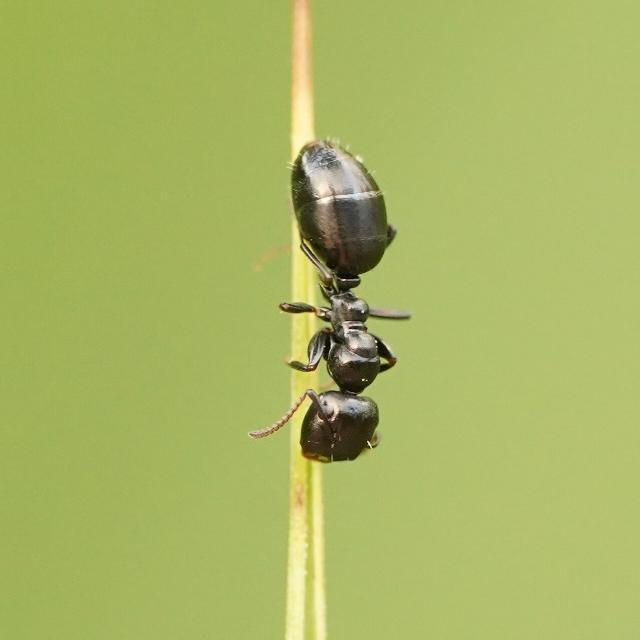Colobopsis: (262, 123, 426, 483)
